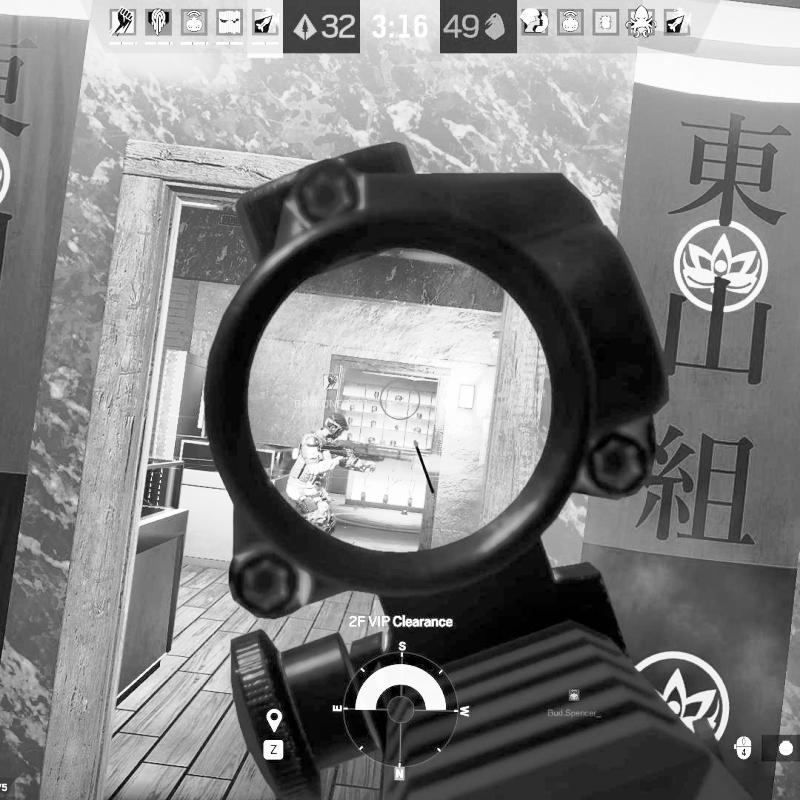Character: (284, 412, 382, 540)
Friend_label: (292, 374, 366, 412), (548, 684, 600, 718)
Head: (322, 413, 349, 440)
